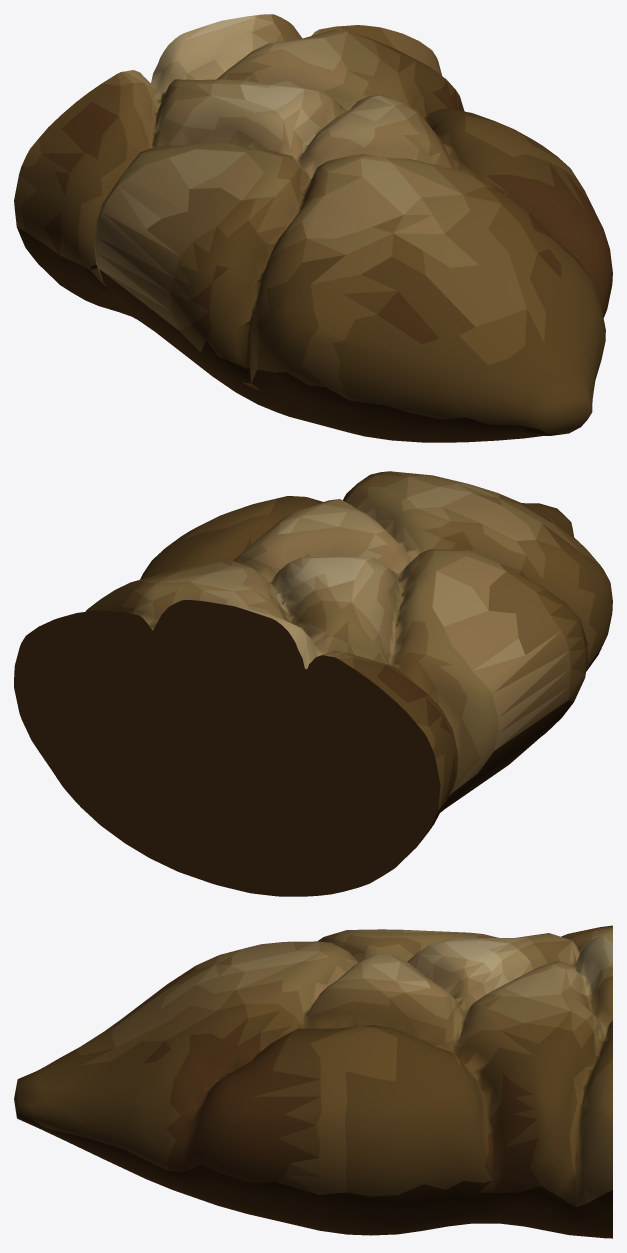
The model's file is ixm_maw_low_123.glb.
3 renders of one model, top to bottom at view 1: azimuth 30°, elevation 25°; view 2: azimuth 150°, elevation 25°; view 3: azimuth 270°, elevation 25°, orthographic. The views are drawn at different scales.
Visible parts, largest first — view 1: ixm_maw_low_123; view 2: ixm_maw_low_123; view 3: ixm_maw_low_123.
Boxes of the visible parts, x1,y1,x2,y2 form: ixm_maw_low_123: [14, 14, 612, 442]; ixm_maw_low_123: [14, 471, 612, 896]; ixm_maw_low_123: [14, 925, 612, 1238].
Bounding box in the file's own units: 17.71 × 11.23 × 23.57.
